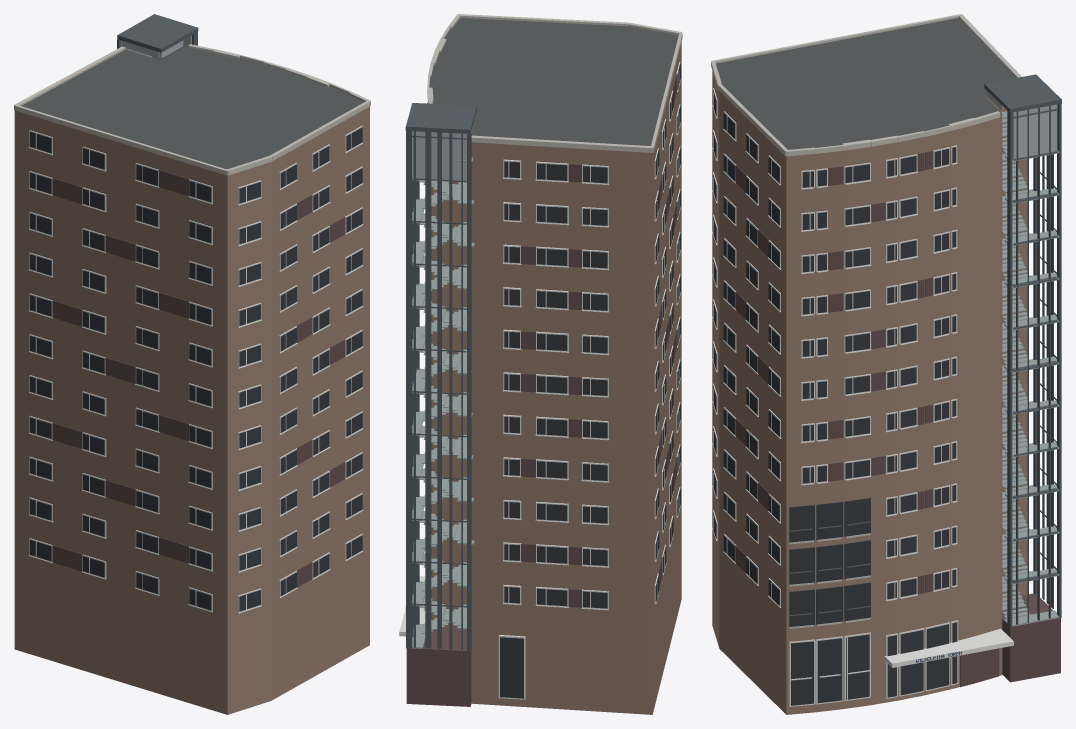
Rendered from wilhelminatoren.glb.
3 views of the same model, side by side, from view 1: azimuth 30°, elevation 25°; view 2: azimuth 150°, elevation 25°; view 3: azimuth 270°, elevation 25° (orthographic). The views are drawn at different scales.
Parts seen in each view (by area): view 1: wilhelminatoren; view 2: wilhelminatoren; view 3: wilhelminatoren.
Part boxes in pixels (bbox=[...]): wilhelminatoren: bbox=[14, 14, 370, 714]; wilhelminatoren: bbox=[399, 14, 682, 714]; wilhelminatoren: bbox=[711, 14, 1061, 714].
Bounding box in the file's own units: 21.91 × 42.5 × 23.56.
